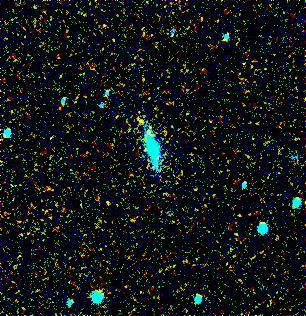star: (121, 104, 151, 134)
